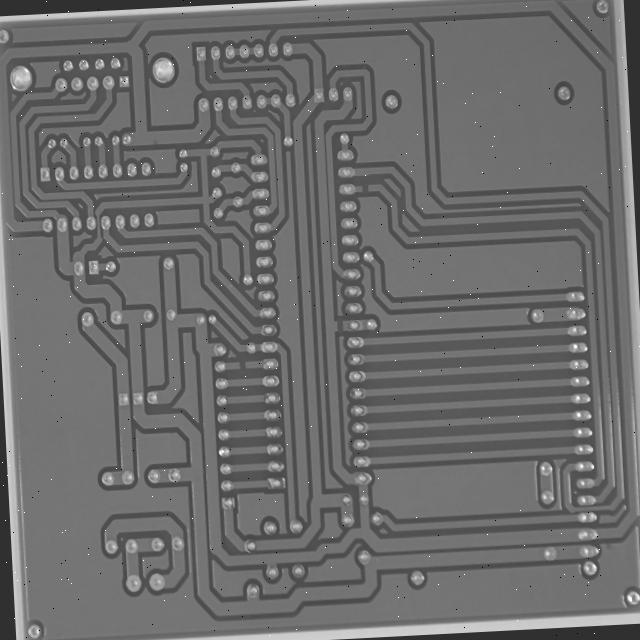open_circuit: (354, 171, 369, 189), (329, 310, 342, 329), (229, 354, 244, 369)
